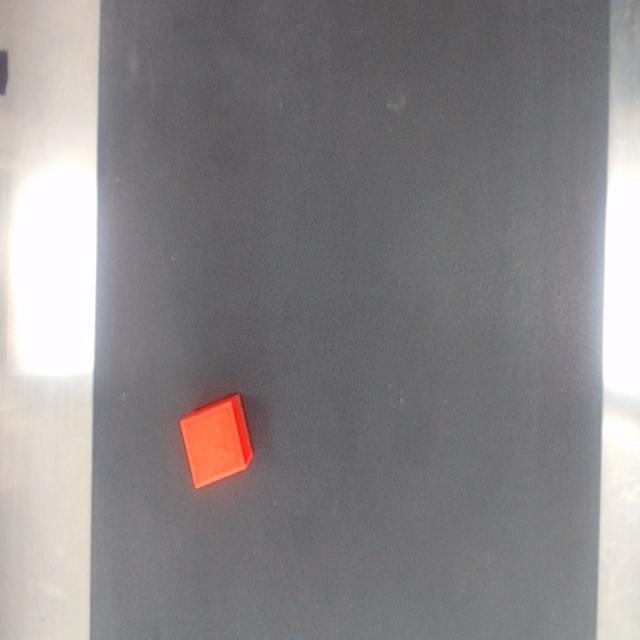Rojo: (179, 395, 252, 489)
